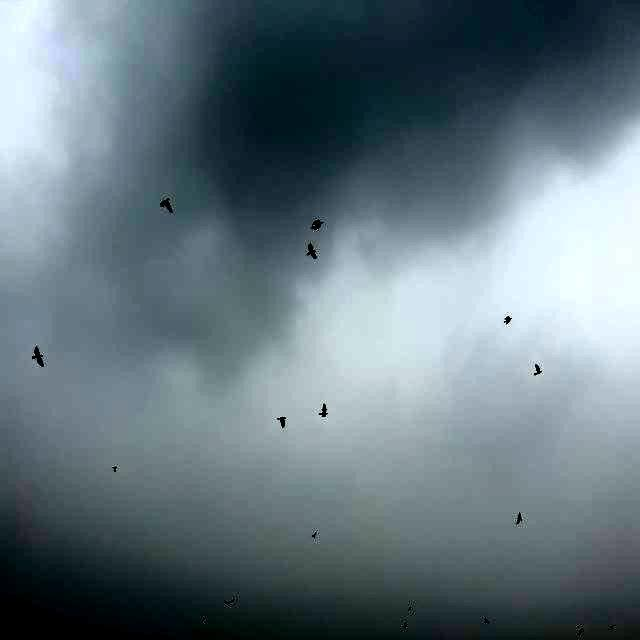bird: (475, 612, 509, 634), (314, 394, 336, 424), (105, 458, 131, 482), (154, 193, 174, 222), (219, 590, 245, 611), (527, 361, 546, 389), (30, 344, 48, 372), (498, 308, 516, 335), (270, 410, 292, 432), (398, 598, 422, 618), (304, 525, 324, 546), (310, 210, 326, 236), (303, 241, 321, 264), (510, 512, 525, 532)
